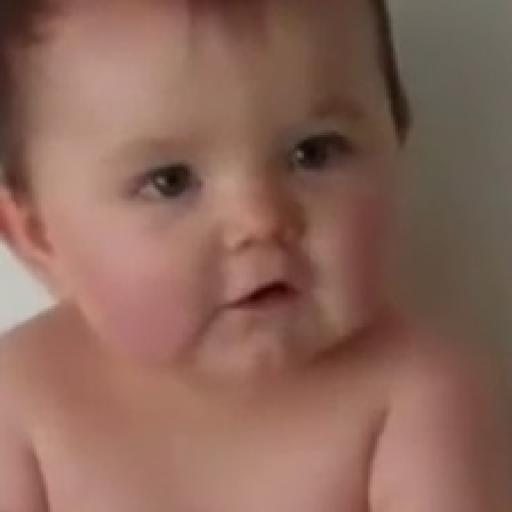Autism: (31, 32, 475, 482)
